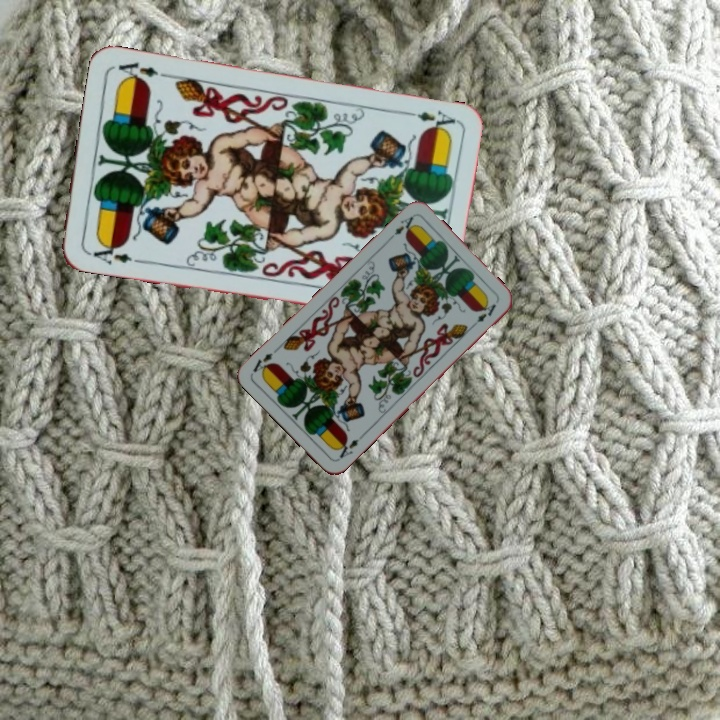EA: (83, 238, 142, 268), (400, 105, 458, 134), (384, 212, 418, 244), (332, 435, 361, 463)
